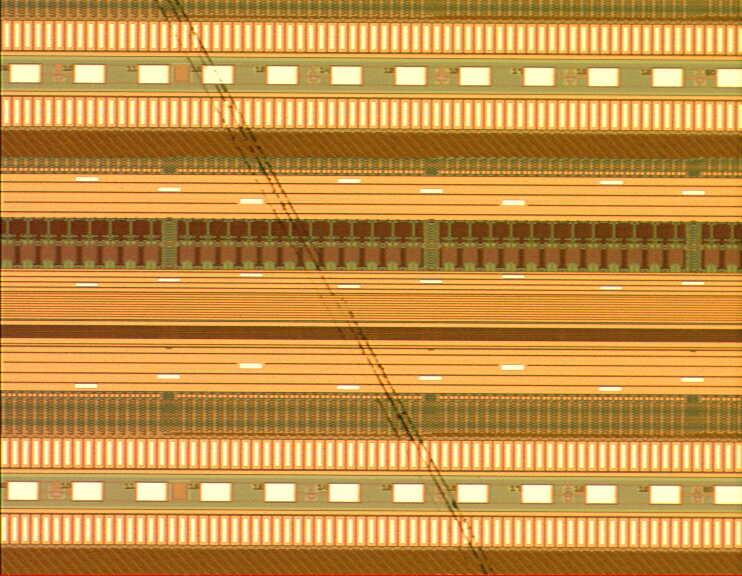SCRATCH: (142, 1, 530, 576)
